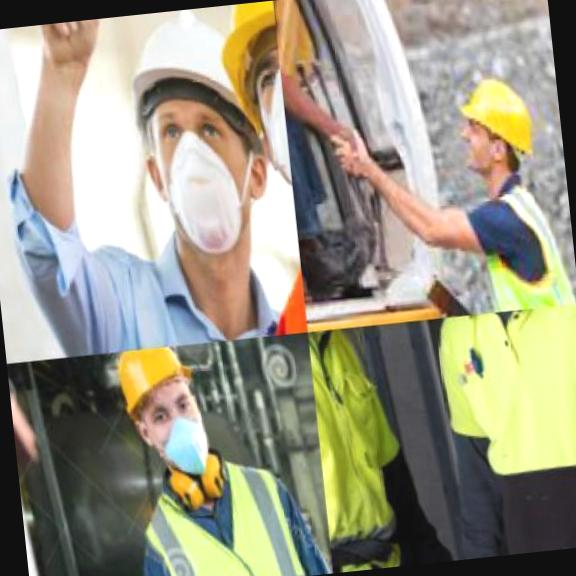safety_vest: (121, 438, 333, 576), (456, 177, 576, 313)
